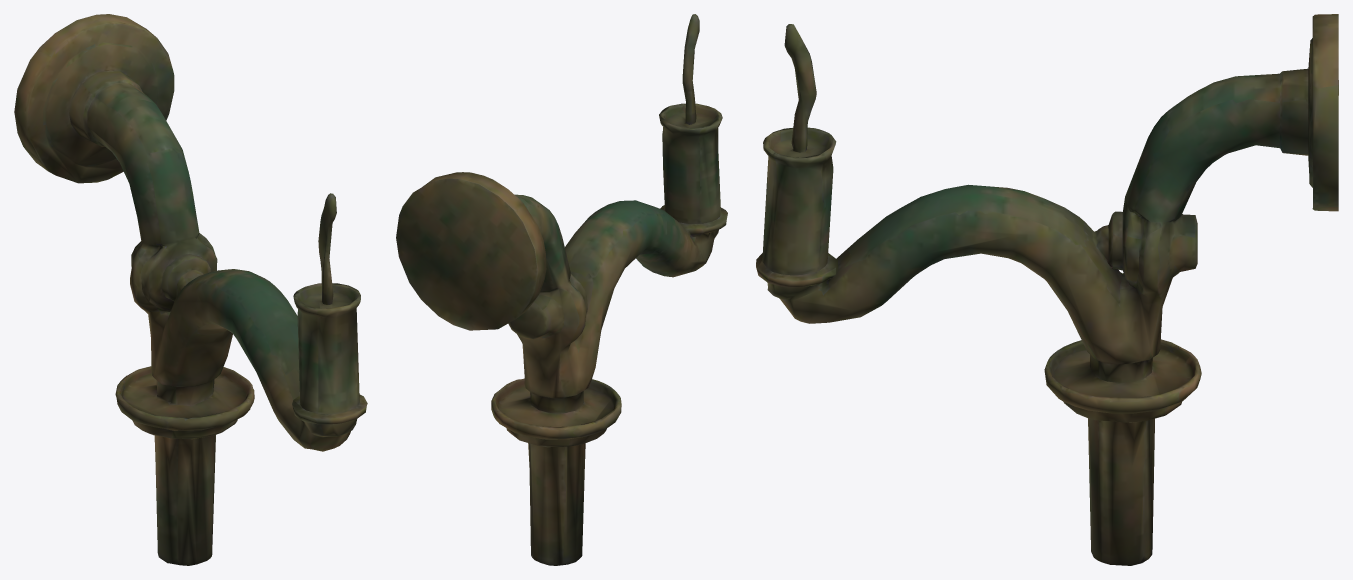
File: sturdy-bronze-wall-torch-v001.glb
The picture shows the model from 3 angles, left to right: view 1: azimuth 30°, elevation 25°; view 2: azimuth 150°, elevation 25°; view 3: azimuth 270°, elevation 25°; orthographic projection. The views are drawn at different scales.
Parts seen in each view (by area): view 1: sturdy-bronze-wall-torch; view 2: sturdy-bronze-wall-torch; view 3: sturdy-bronze-wall-torch.
Boxes of the visible parts, x1,y1,x2,y2 form: sturdy-bronze-wall-torch: (14,14,367,565); sturdy-bronze-wall-torch: (396,14,727,565); sturdy-bronze-wall-torch: (756,14,1338,565).
Bounding box in the file's own units: 0.2617 × 0.7792 × 0.7754.
1 material, 1 textured.
